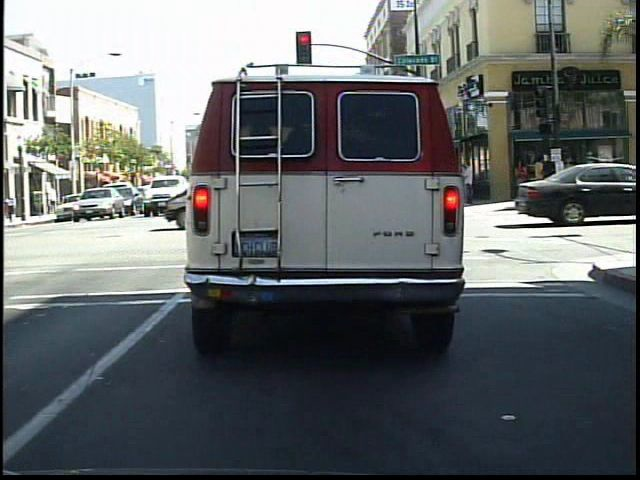person: (538, 153, 561, 206), (511, 157, 533, 204)
